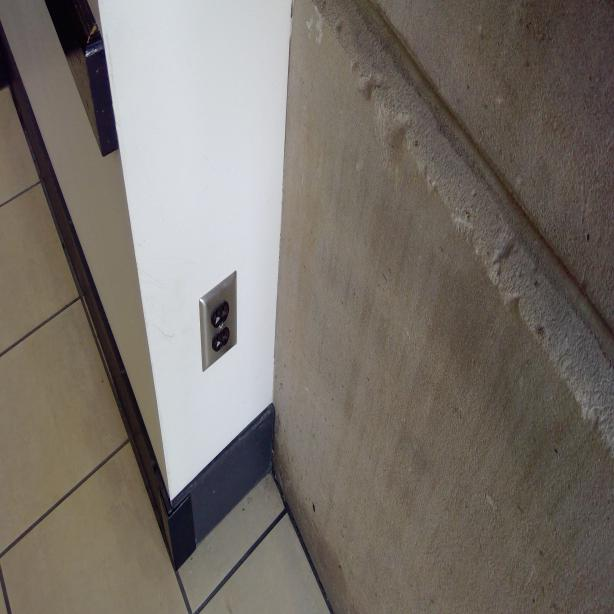typeb: (212, 299, 232, 326), (214, 328, 231, 348)
